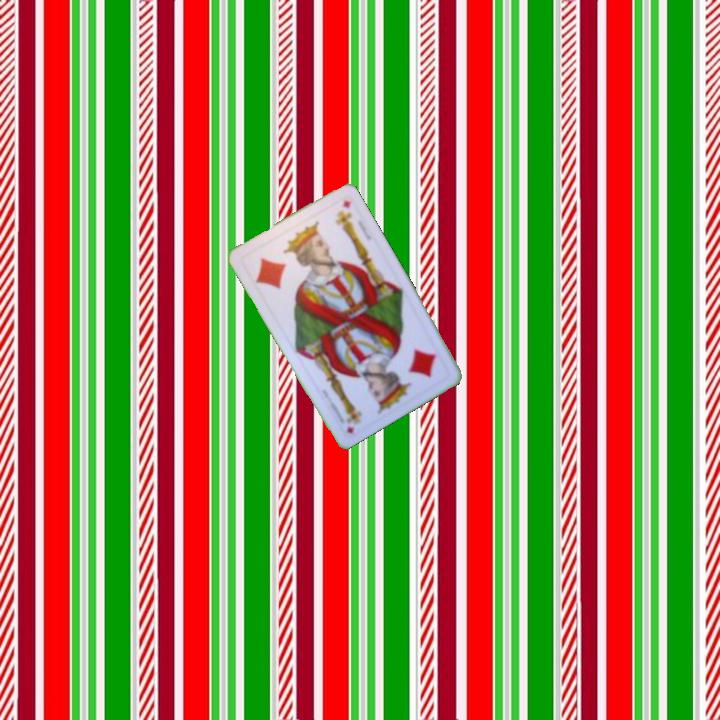d_k.png: (368, 325, 453, 407), (238, 224, 323, 306)
